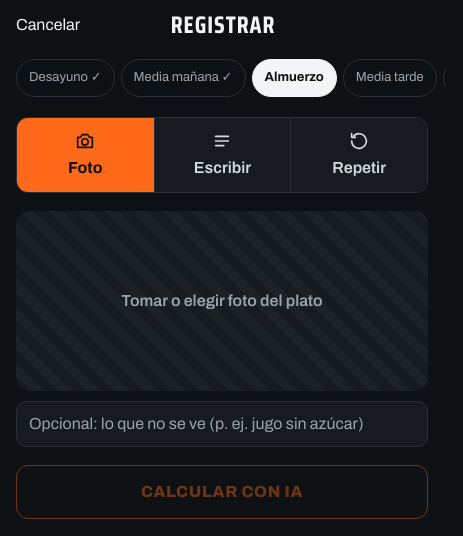
Test: FormRegistrar › muestra el error de la IA sin perder lo escrito
Click the tab "Escribir": (222, 154) [154,118,290,192]
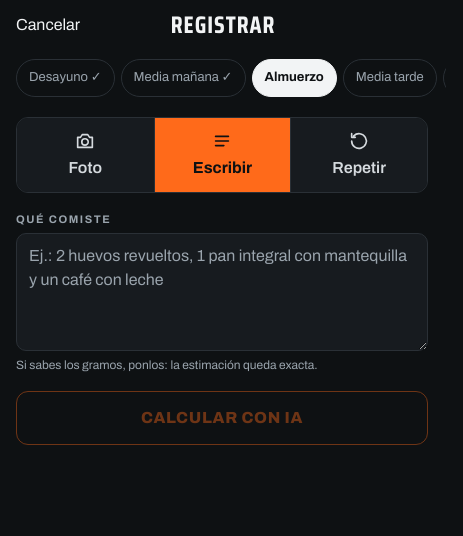
Replace the text in the text box labelled "Qué comiste" with "2 huevos": (222, 292) [16,233,428,351]
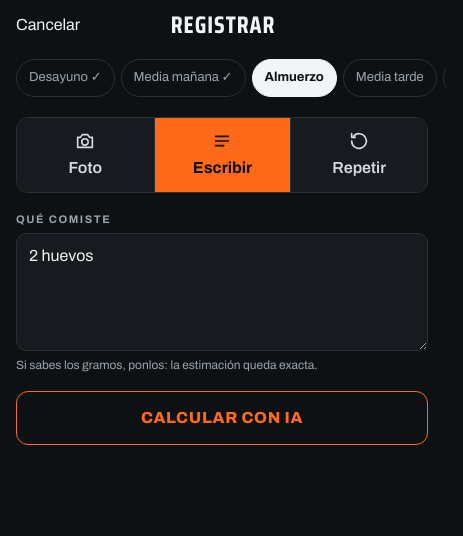
Click the button "CALCULAR CON IA": (222, 418) [16,391,428,445]
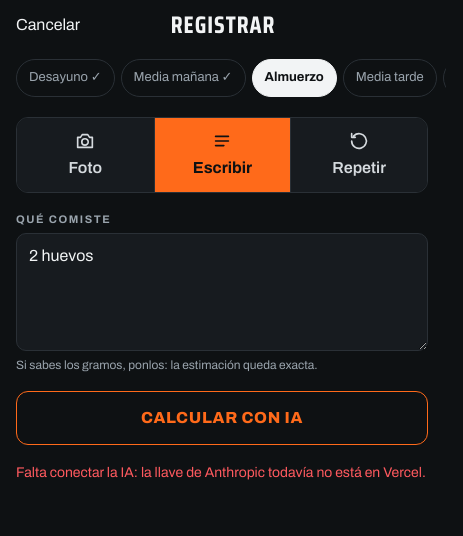
Expected: the text "Falta conectar la IA" is shown, [16,465,426,480]
